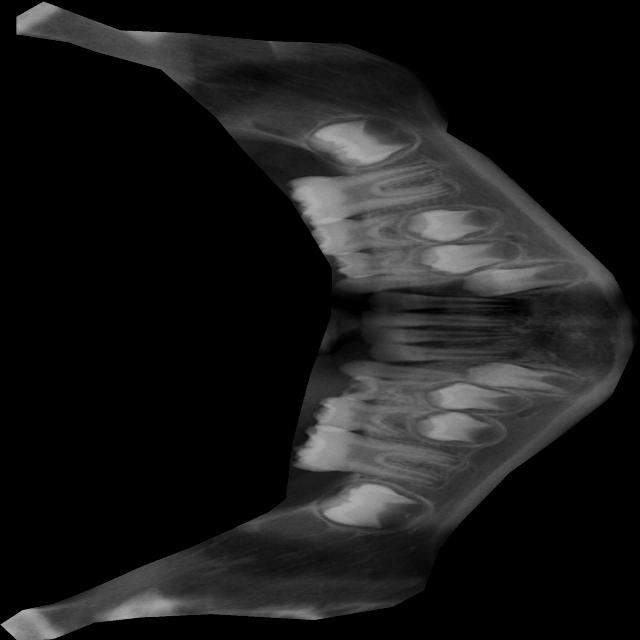mandibula: (0, 0, 640, 640)
